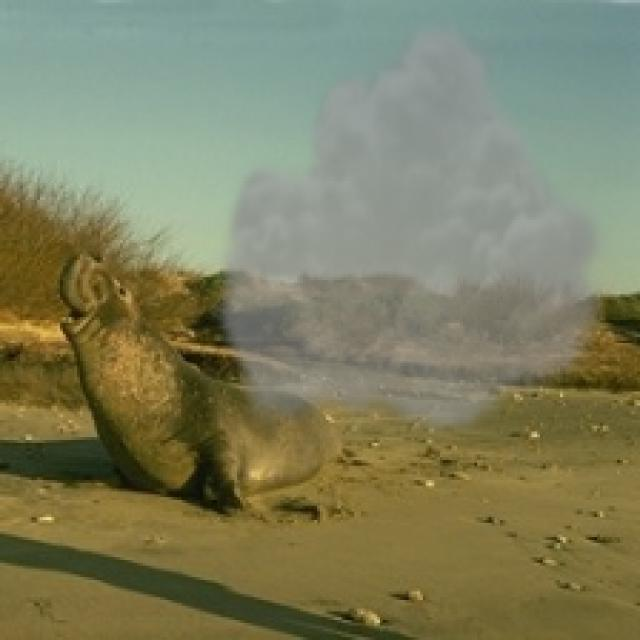smoke: (209, 12, 617, 437)
